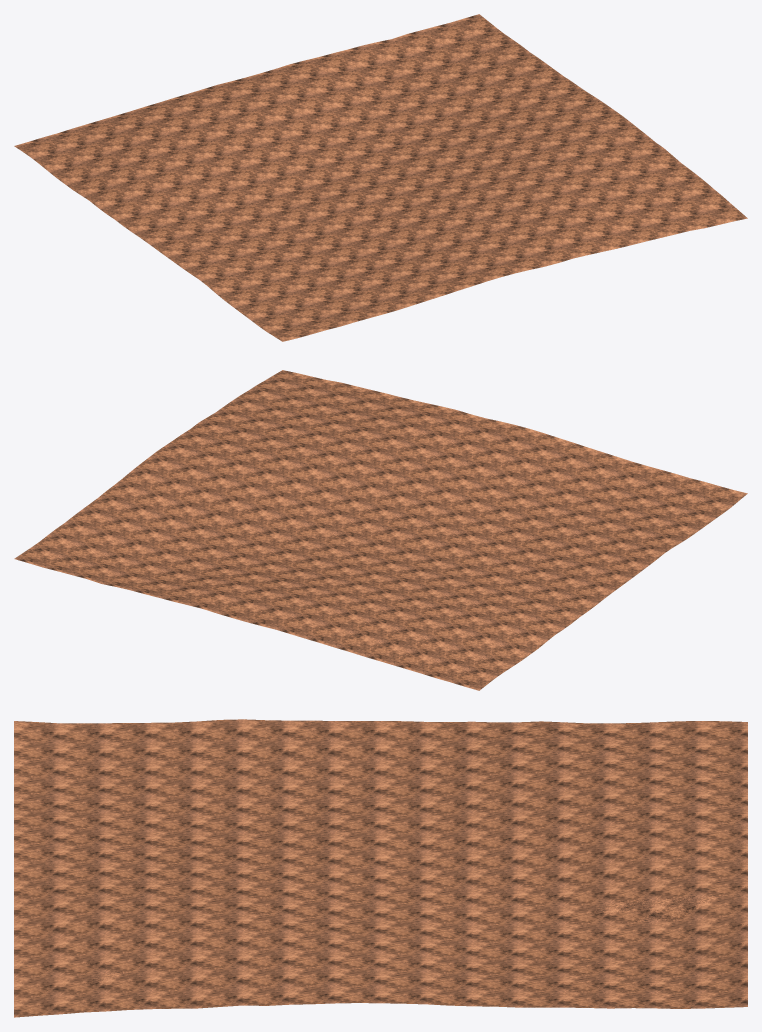
Rendered from terrain_10_19.dae.
3 views of the same model, one above another, from view 1: azimuth 30°, elevation 25°; view 2: azimuth 150°, elevation 25°; view 3: azimuth 270°, elevation 25° (orthographic). The views are drawn at different scales.
Visible parts, largest first — view 1: terrain_10_19-node; view 2: terrain_10_19-node; view 3: terrain_10_19-node.
Part boxes in pixels (box(x1,y1,x2,y2)): terrain_10_19-node: box(14, 14, 747, 341); terrain_10_19-node: box(14, 370, 747, 690); terrain_10_19-node: box(14, 719, 747, 1017).
Size of the model in its own units: 128 by 128 by 5.89.
Materials: 1 (1 with a texture image).
